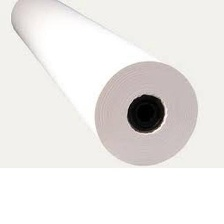tissue: (6, 0, 204, 167)
